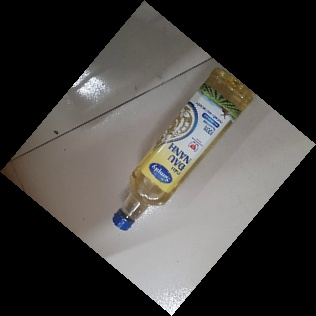Simply: (111, 65, 254, 233)
